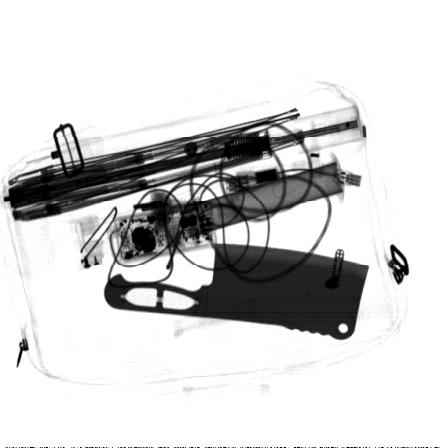Knife: (104, 242, 371, 341)
